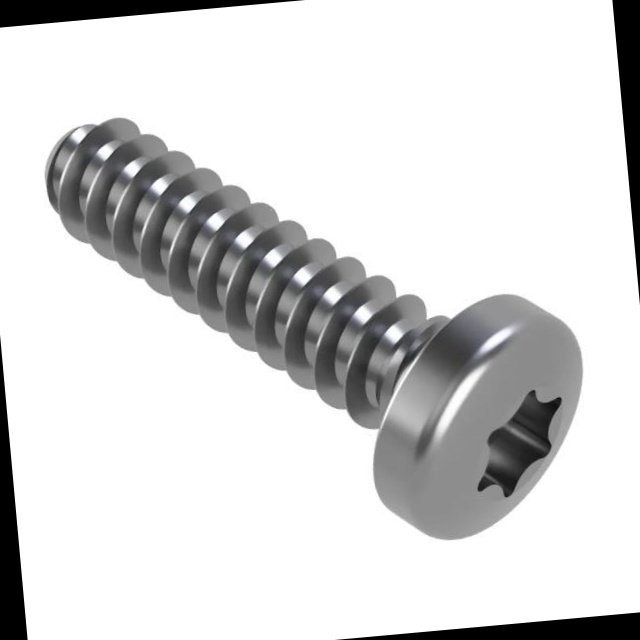torx: (355, 285, 601, 548)
